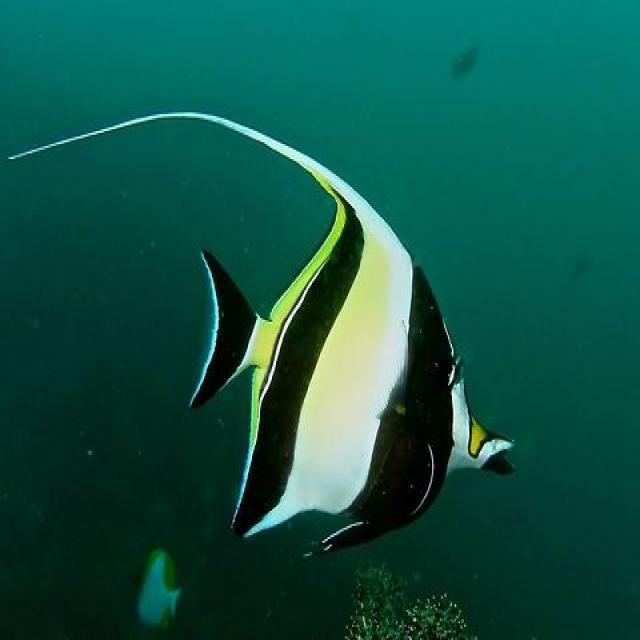MorishIdol: (5, 107, 518, 563)
